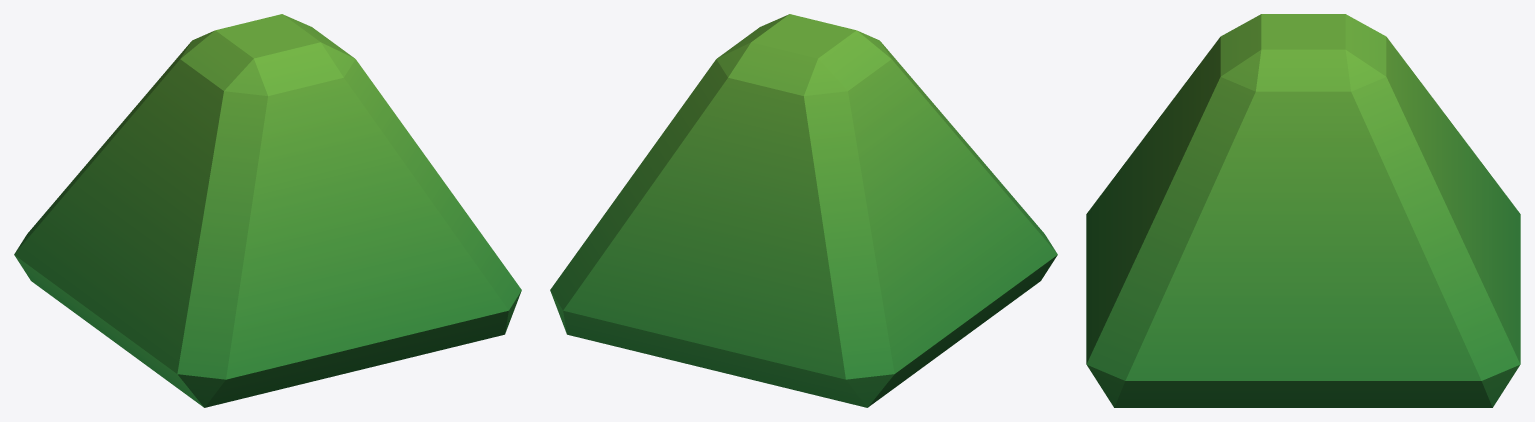
The model's file is kf_bush_4_a.fbx.
The picture shows the model from 3 angles, left to right: view 1: azimuth 30°, elevation 25°; view 2: azimuth 150°, elevation 25°; view 3: azimuth 270°, elevation 25°; orthographic projection. The views are drawn at different scales.
Parts seen in each view (by area): view 1: kf_bush_4_a; view 2: kf_bush_4_a; view 3: kf_bush_4_a.
Part boxes in pixels (box(x1,y1,x2,y2)): kf_bush_4_a: box(14, 14, 521, 407); kf_bush_4_a: box(550, 14, 1057, 407); kf_bush_4_a: box(1086, 14, 1520, 407).
Size of the model in its own units: 0.9229 by 0.695 by 0.9229.
